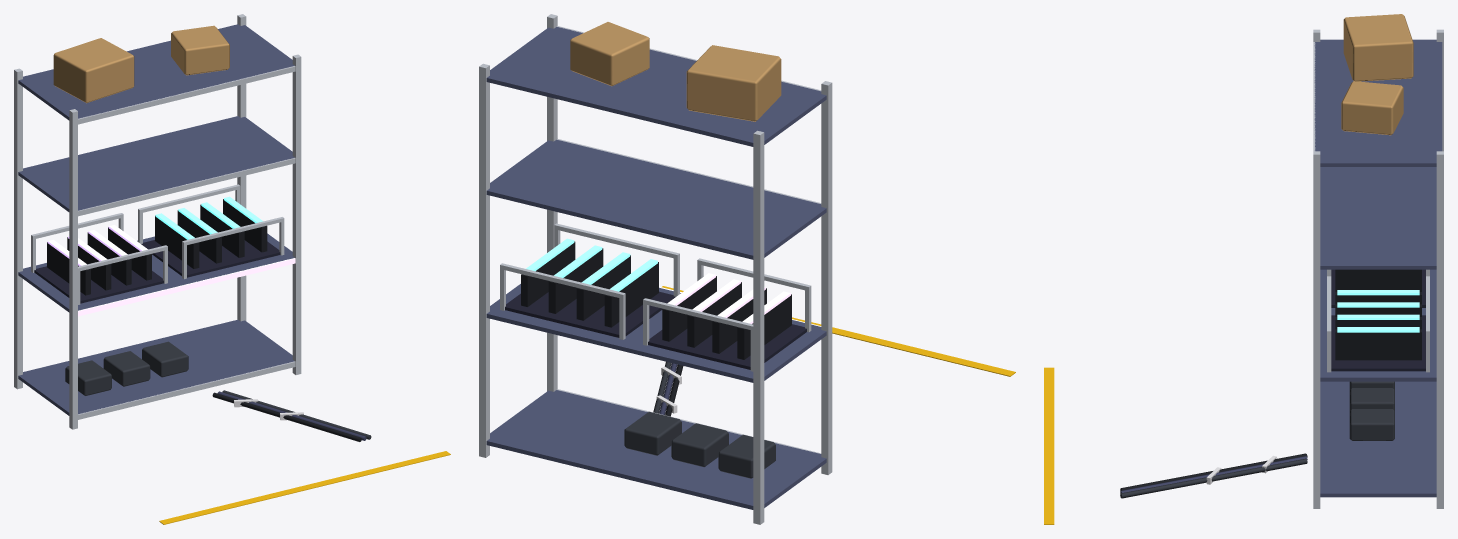
File: station_buffer_1.glb
3 views of the same model, side by side, from view 1: azimuth 30°, elevation 25°; view 2: azimuth 150°, elevation 25°; view 3: azimuth 270°, elevation 25° (orthographic). The views are drawn at different scales.
Parts seen in each view (by area): view 1: station_buffer_1; view 2: station_buffer_1; view 3: station_buffer_1.
Boxes of the visible parts, bbox=[...] form: station_buffer_1: bbox=[14, 14, 450, 524]; station_buffer_1: bbox=[479, 14, 1015, 524]; station_buffer_1: bbox=[1044, 14, 1443, 524].
Bounding box in the file's own units: 1.8 × 2.05 × 1.94.
